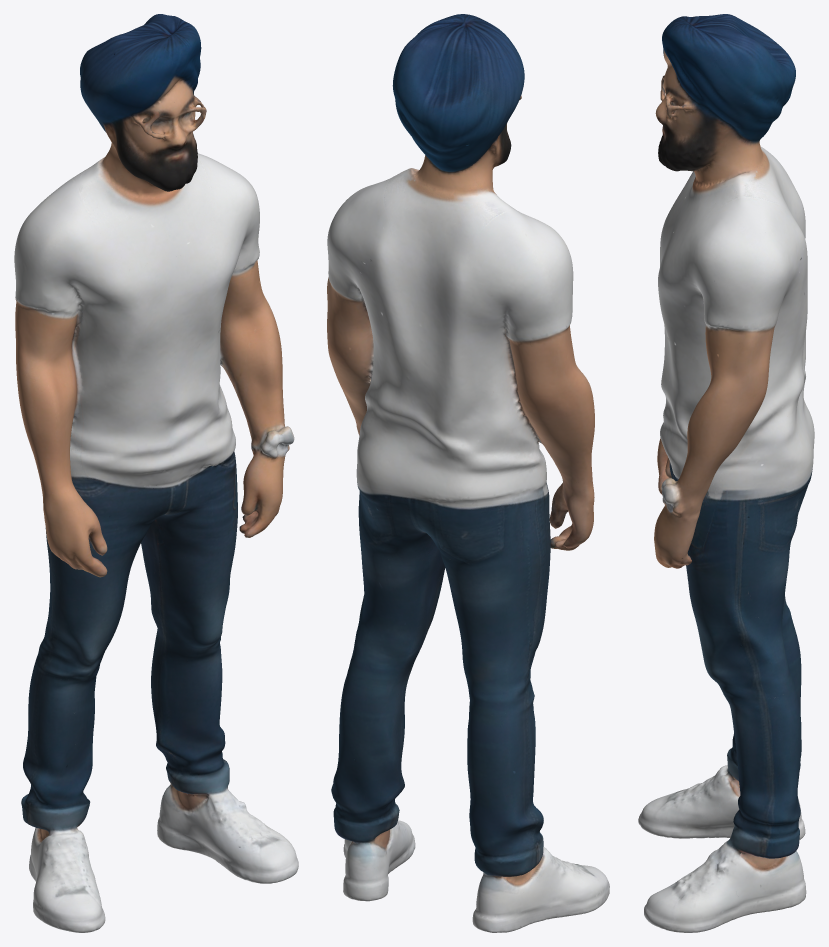
The model's file is Meshy_AI_warm_fair_skin_tone__0527055701_texture.glb.
3 renders of one model, left to right at view 1: azimuth 30°, elevation 25°; view 2: azimuth 150°, elevation 25°; view 3: azimuth 270°, elevation 25°, orthographic.
Size of the model in its own units: 0.6259 by 2 by 0.3736.
1 material, 1 textured.
